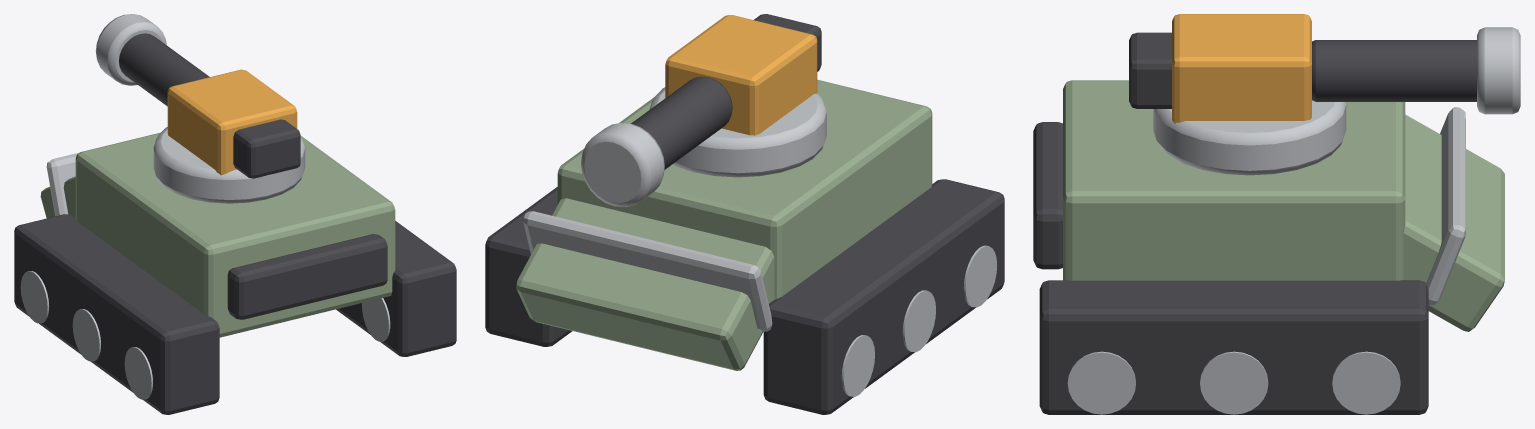
Rendered from robot_small_cannon_tank.glb.
3 renders of one model, left to right at view 1: azimuth 30°, elevation 25°; view 2: azimuth 150°, elevation 25°; view 3: azimuth 270°, elevation 25°, orthographic. The views are drawn at different scales.
Visible parts, largest first — view 1: robot_small_cannon_tank, robot_small_cannon_tank_gun, robot_small_cannon_tank_wheel1, robot_small_cannon_tank_wheel0, robot_small_cannon_tank_wheel2, robot_small_cannon_tank_wheel3; view 2: robot_small_cannon_tank, robot_small_cannon_tank_gun, robot_small_cannon_tank_wheel0, robot_small_cannon_tank_wheel2, robot_small_cannon_tank_wheel1; view 3: robot_small_cannon_tank, robot_small_cannon_tank_gun, robot_small_cannon_tank_wheel5, robot_small_cannon_tank_wheel3, robot_small_cannon_tank_wheel4.
Part boxes in pixels (x1,y1,x2,y2): robot_small_cannon_tank: (14,127,456,414); robot_small_cannon_tank_gun: (95,14,300,178); robot_small_cannon_tank_wheel1: (72,309,100,361); robot_small_cannon_tank_wheel0: (124,347,152,399); robot_small_cannon_tank_wheel2: (20,271,48,323); robot_small_cannon_tank_wheel3: (362,298,390,341); robot_small_cannon_tank: (485,79,1004,414); robot_small_cannon_tank_gun: (581,14,821,207); robot_small_cannon_tank_wheel0: (963,245,997,307); robot_small_cannon_tank_wheel2: (841,335,874,396); robot_small_cannon_tank_wheel1: (902,290,935,352); robot_small_cannon_tank: (1033,80,1504,414); robot_small_cannon_tank_gun: (1129,14,1520,123); robot_small_cannon_tank_wheel5: (1332,351,1400,414); robot_small_cannon_tank_wheel3: (1067,351,1135,414); robot_small_cannon_tank_wheel4: (1200,351,1268,414).
Size of what is drawn, in the model's own units: 3.38 by 2.51 by 3.76.
